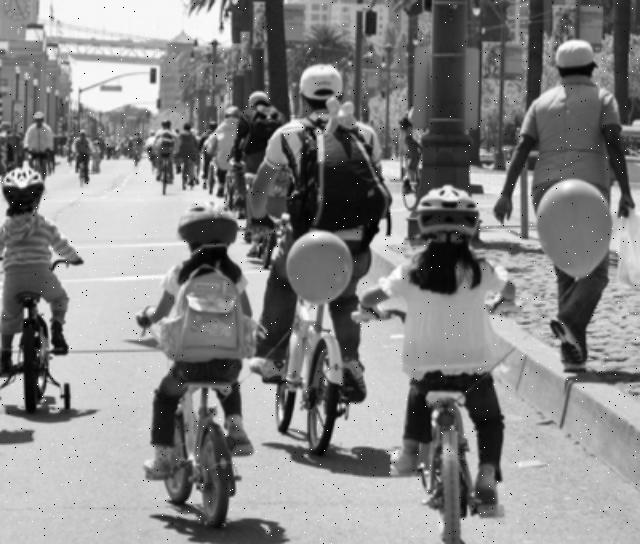With Helmet: (415, 181, 483, 251), (173, 195, 243, 259), (1, 164, 49, 218)
Without Helmet: (296, 60, 348, 120), (549, 41, 597, 83)
